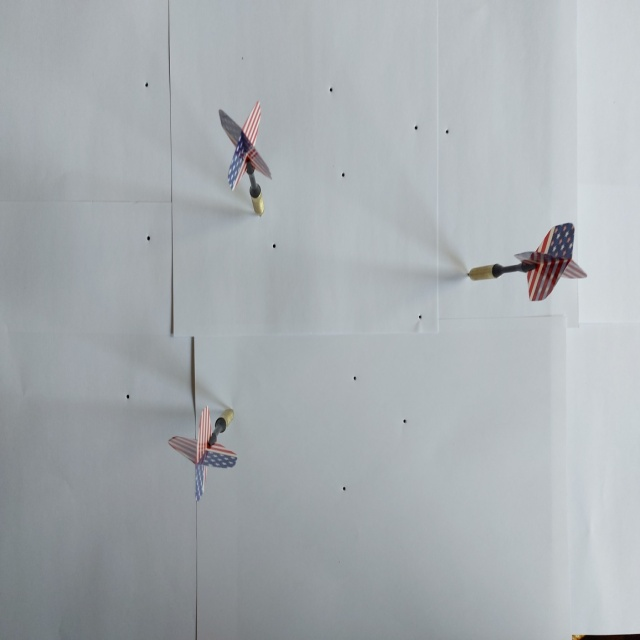Dart: (457, 215, 592, 304), (210, 97, 281, 224), (164, 399, 246, 503)
